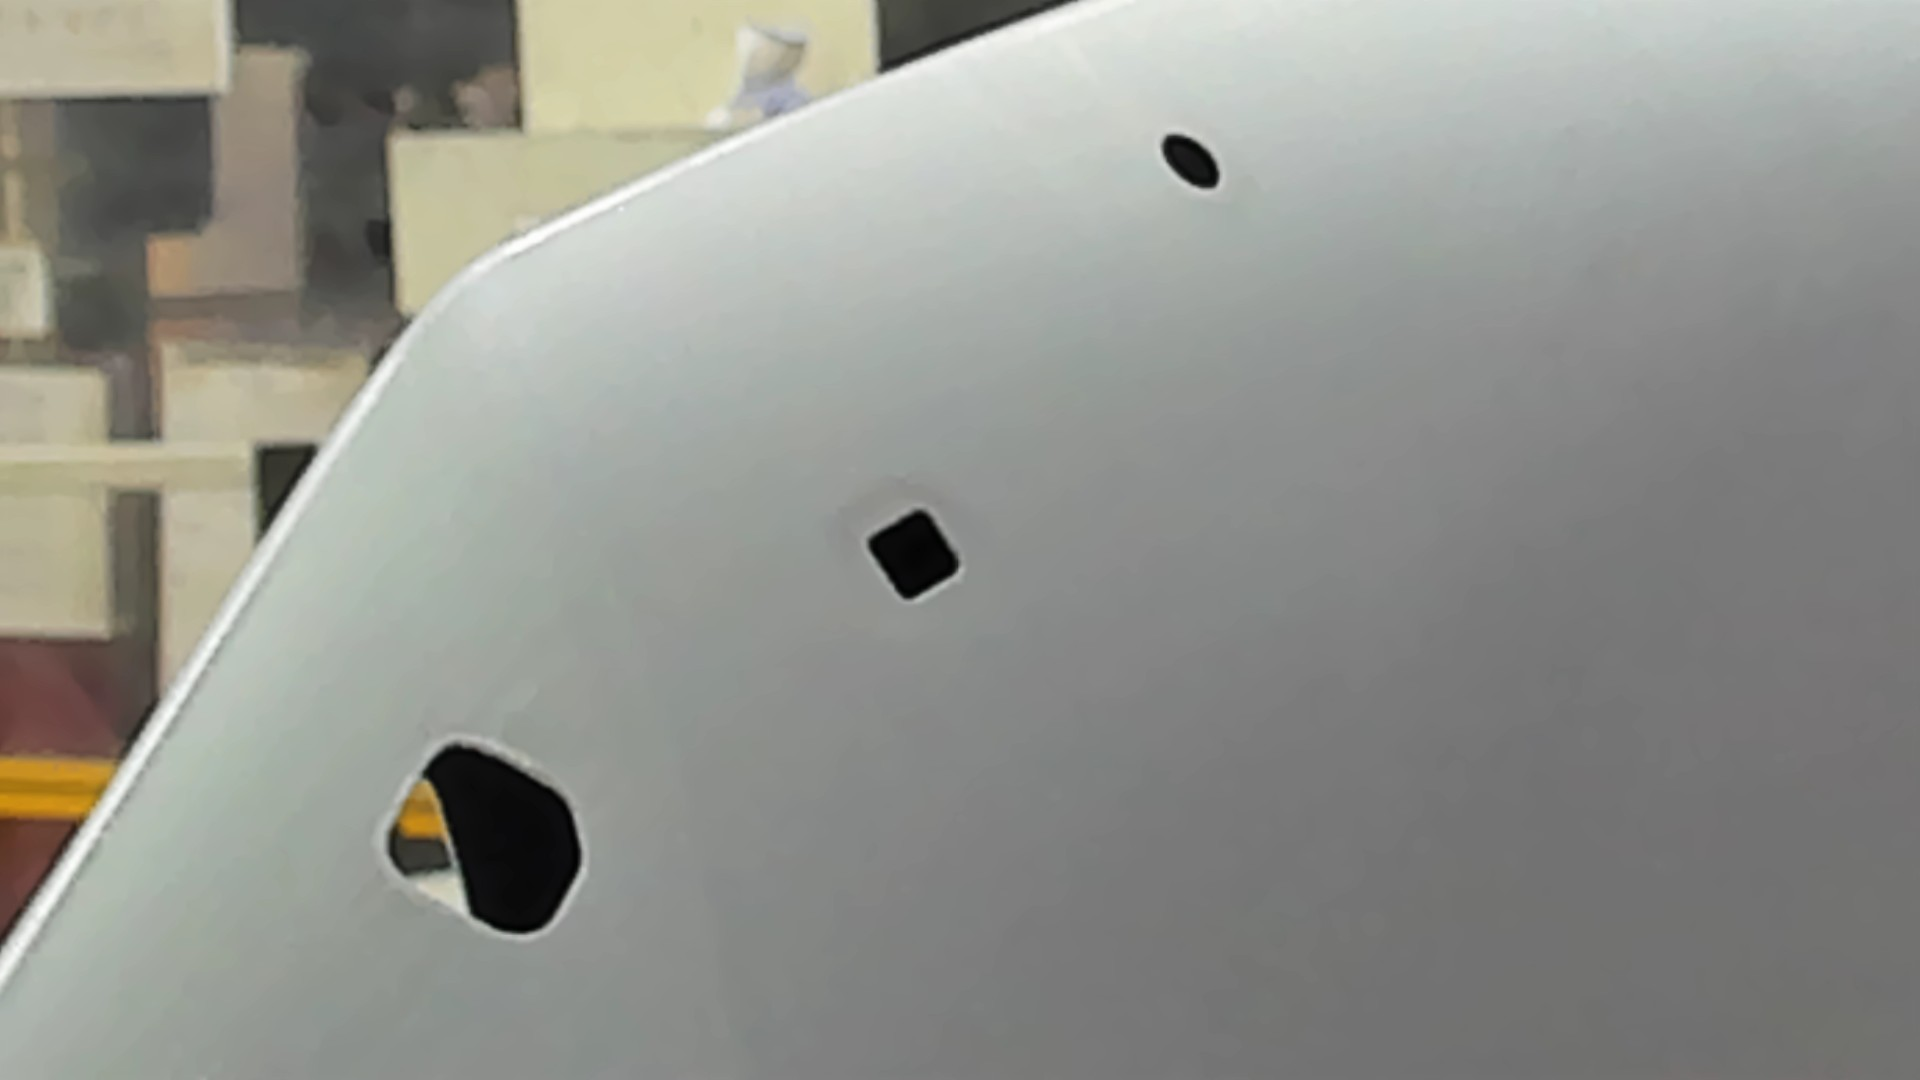capo: (969, 204, 1920, 1080)
chico: (1154, 129, 1224, 196)
grande: (375, 733, 591, 945)
mediano: (858, 502, 965, 605)
